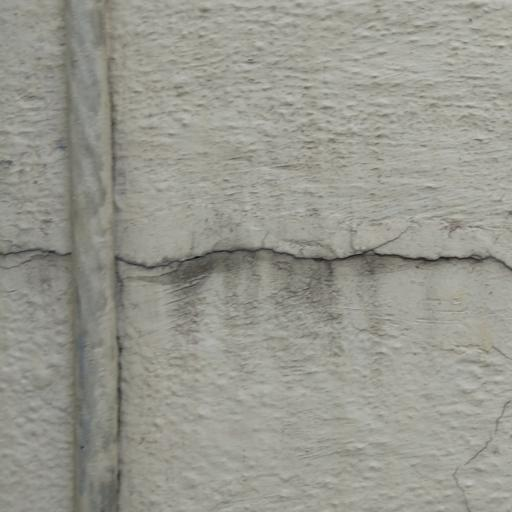minor_crack: (115, 236, 512, 288), (441, 384, 512, 512), (0, 210, 90, 274)
